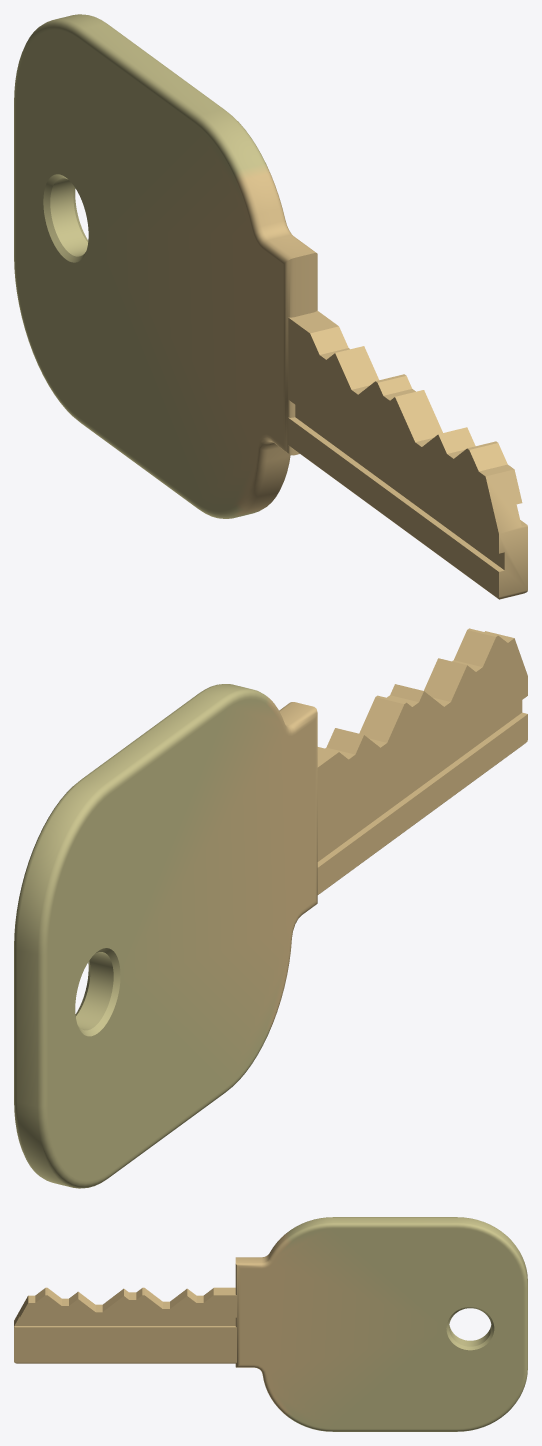
File: Kit_Key_Zone.fbx
The picture shows the model from 3 angles, top to bottom: view 1: azimuth 30°, elevation 25°; view 2: azimuth 150°, elevation 25°; view 3: azimuth 270°, elevation 25°; orthographic projection. The views are drawn at different scales.
Parts seen in each view (by area): view 1: Kit_Key_Zone_LOD0; view 2: Kit_Key_Zone_LOD0; view 3: Kit_Key_Zone_LOD0.
Part boxes in pixels (x1,y1,x2,y2): Kit_Key_Zone_LOD0: (14,14,527,599); Kit_Key_Zone_LOD0: (14,628,527,1188); Kit_Key_Zone_LOD0: (14,1217,527,1431).
Size of what is drawn, in the model's own units: 0.0022 by 0.026 by 0.058.
